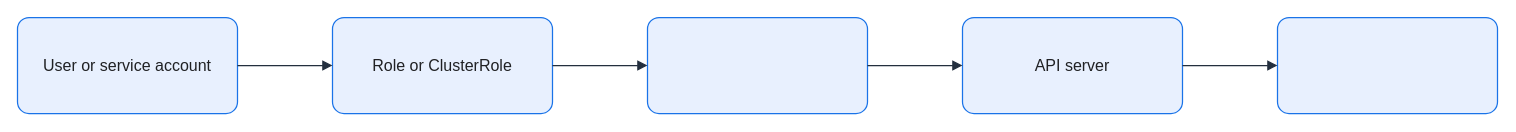
Image size: 1516x132. Some labels were removed from this diagram. The centre of each missing label's shape, as x and y in pixels:
"Allowed resource action" belongs at point (1387, 65).
"RoleBinding" belongs at point (757, 65).
